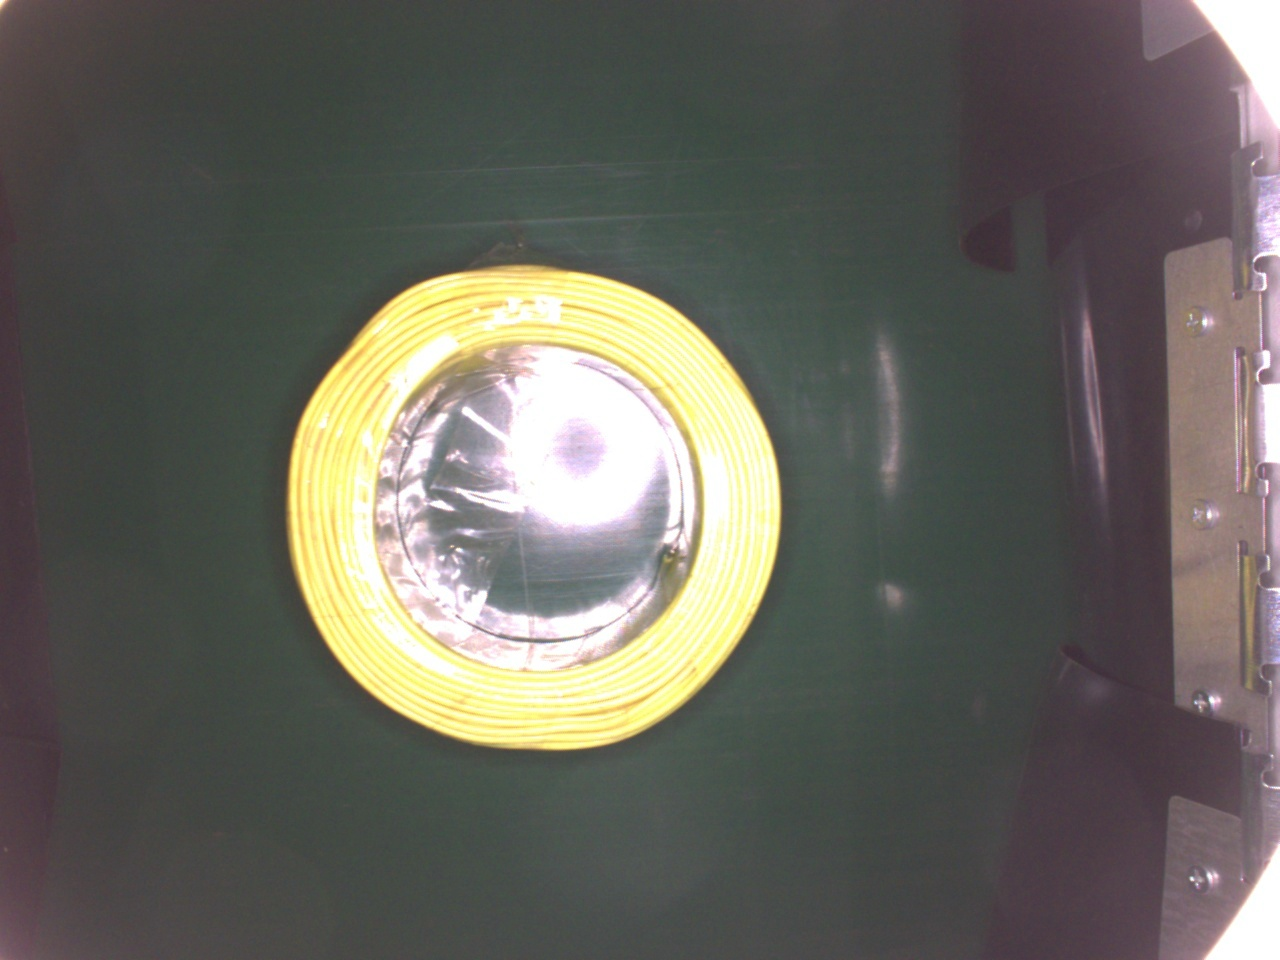yellow: (286, 257, 784, 753)
